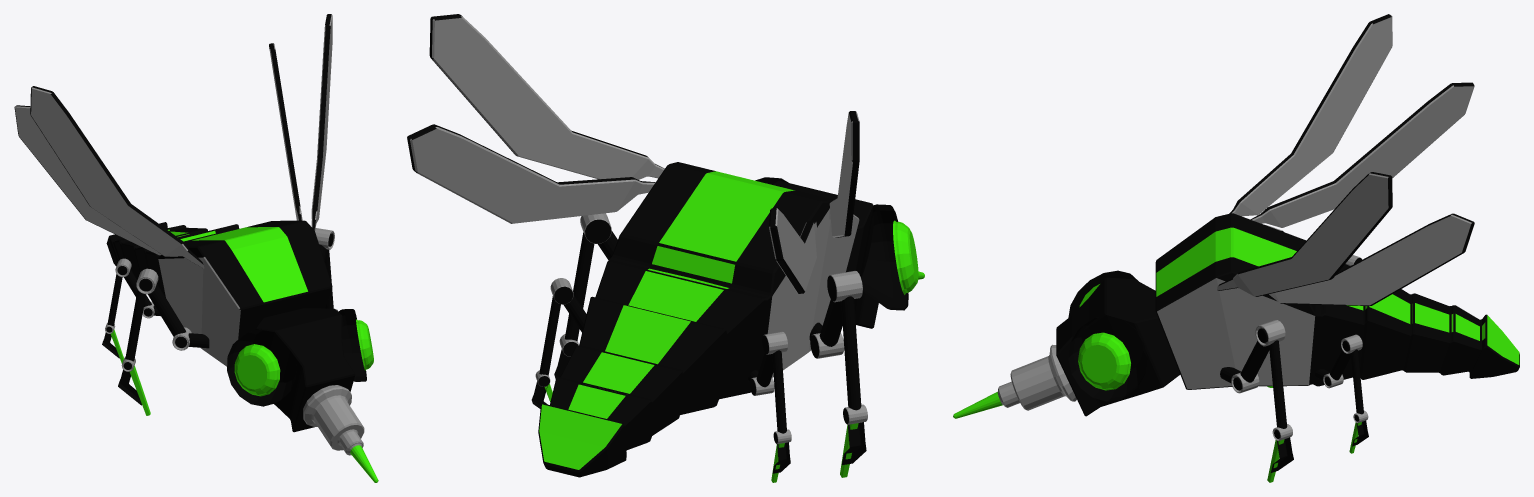
The model's file is Flies_Mecha_Green.fbx.
3 views of the same model, side by side, from view 1: azimuth 30°, elevation 25°; view 2: azimuth 150°, elevation 25°; view 3: azimuth 270°, elevation 25° (orthographic). The views are drawn at different scales.
Visible parts, largest first — view 1: Fly_Green; view 2: Fly_Green; view 3: Fly_Green.
Part boxes in pixels (x1,y1,x2,y2): Fly_Green: (14,14,378,482); Fly_Green: (407,14,924,482); Fly_Green: (953,14,1519,482).
Size of the model in its own units: 246 by 237 by 359.
